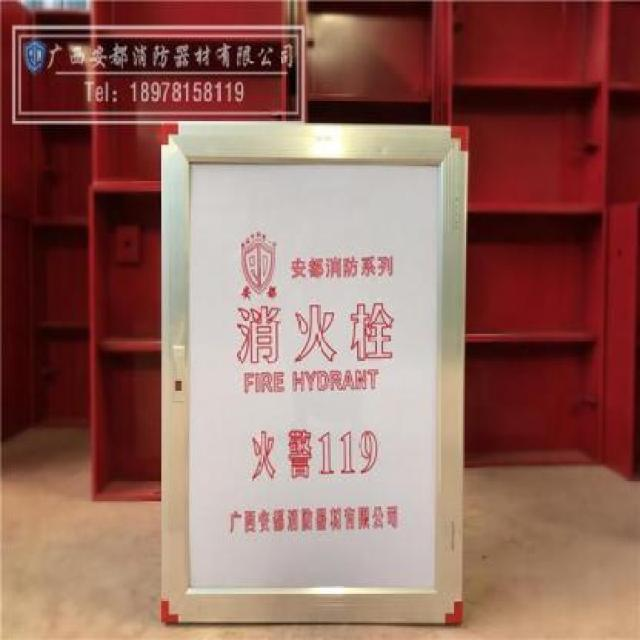firehydrant: (154, 115, 471, 636)
